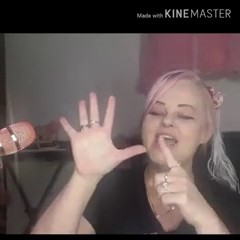A: (57, 90, 202, 226)
